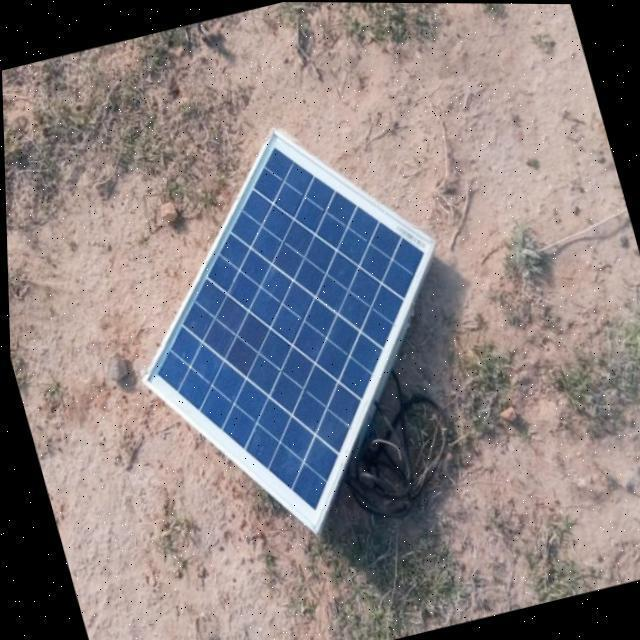Normal Solar Panel: (80, 96, 502, 564)
